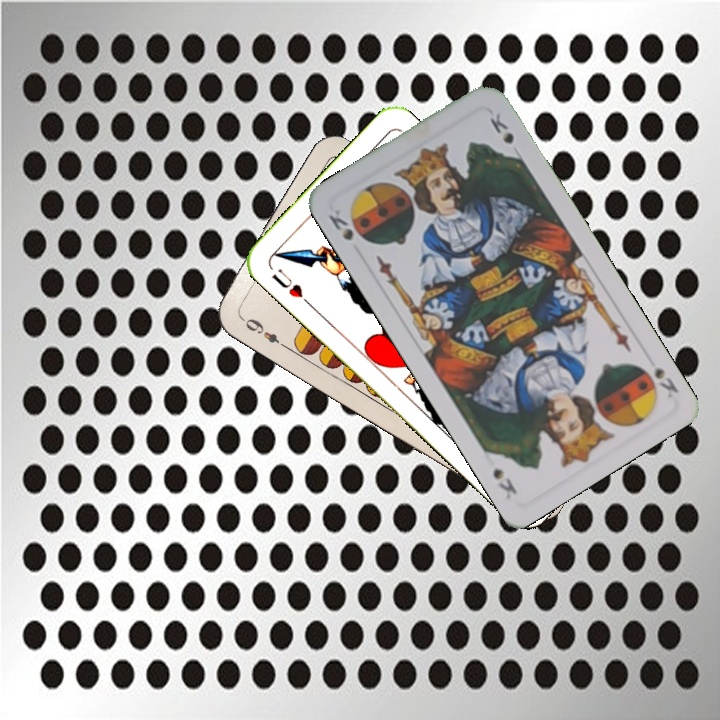E9: (237, 313, 290, 351)
HU: (267, 264, 313, 308)
SK: (635, 360, 681, 401), (324, 205, 357, 243)
